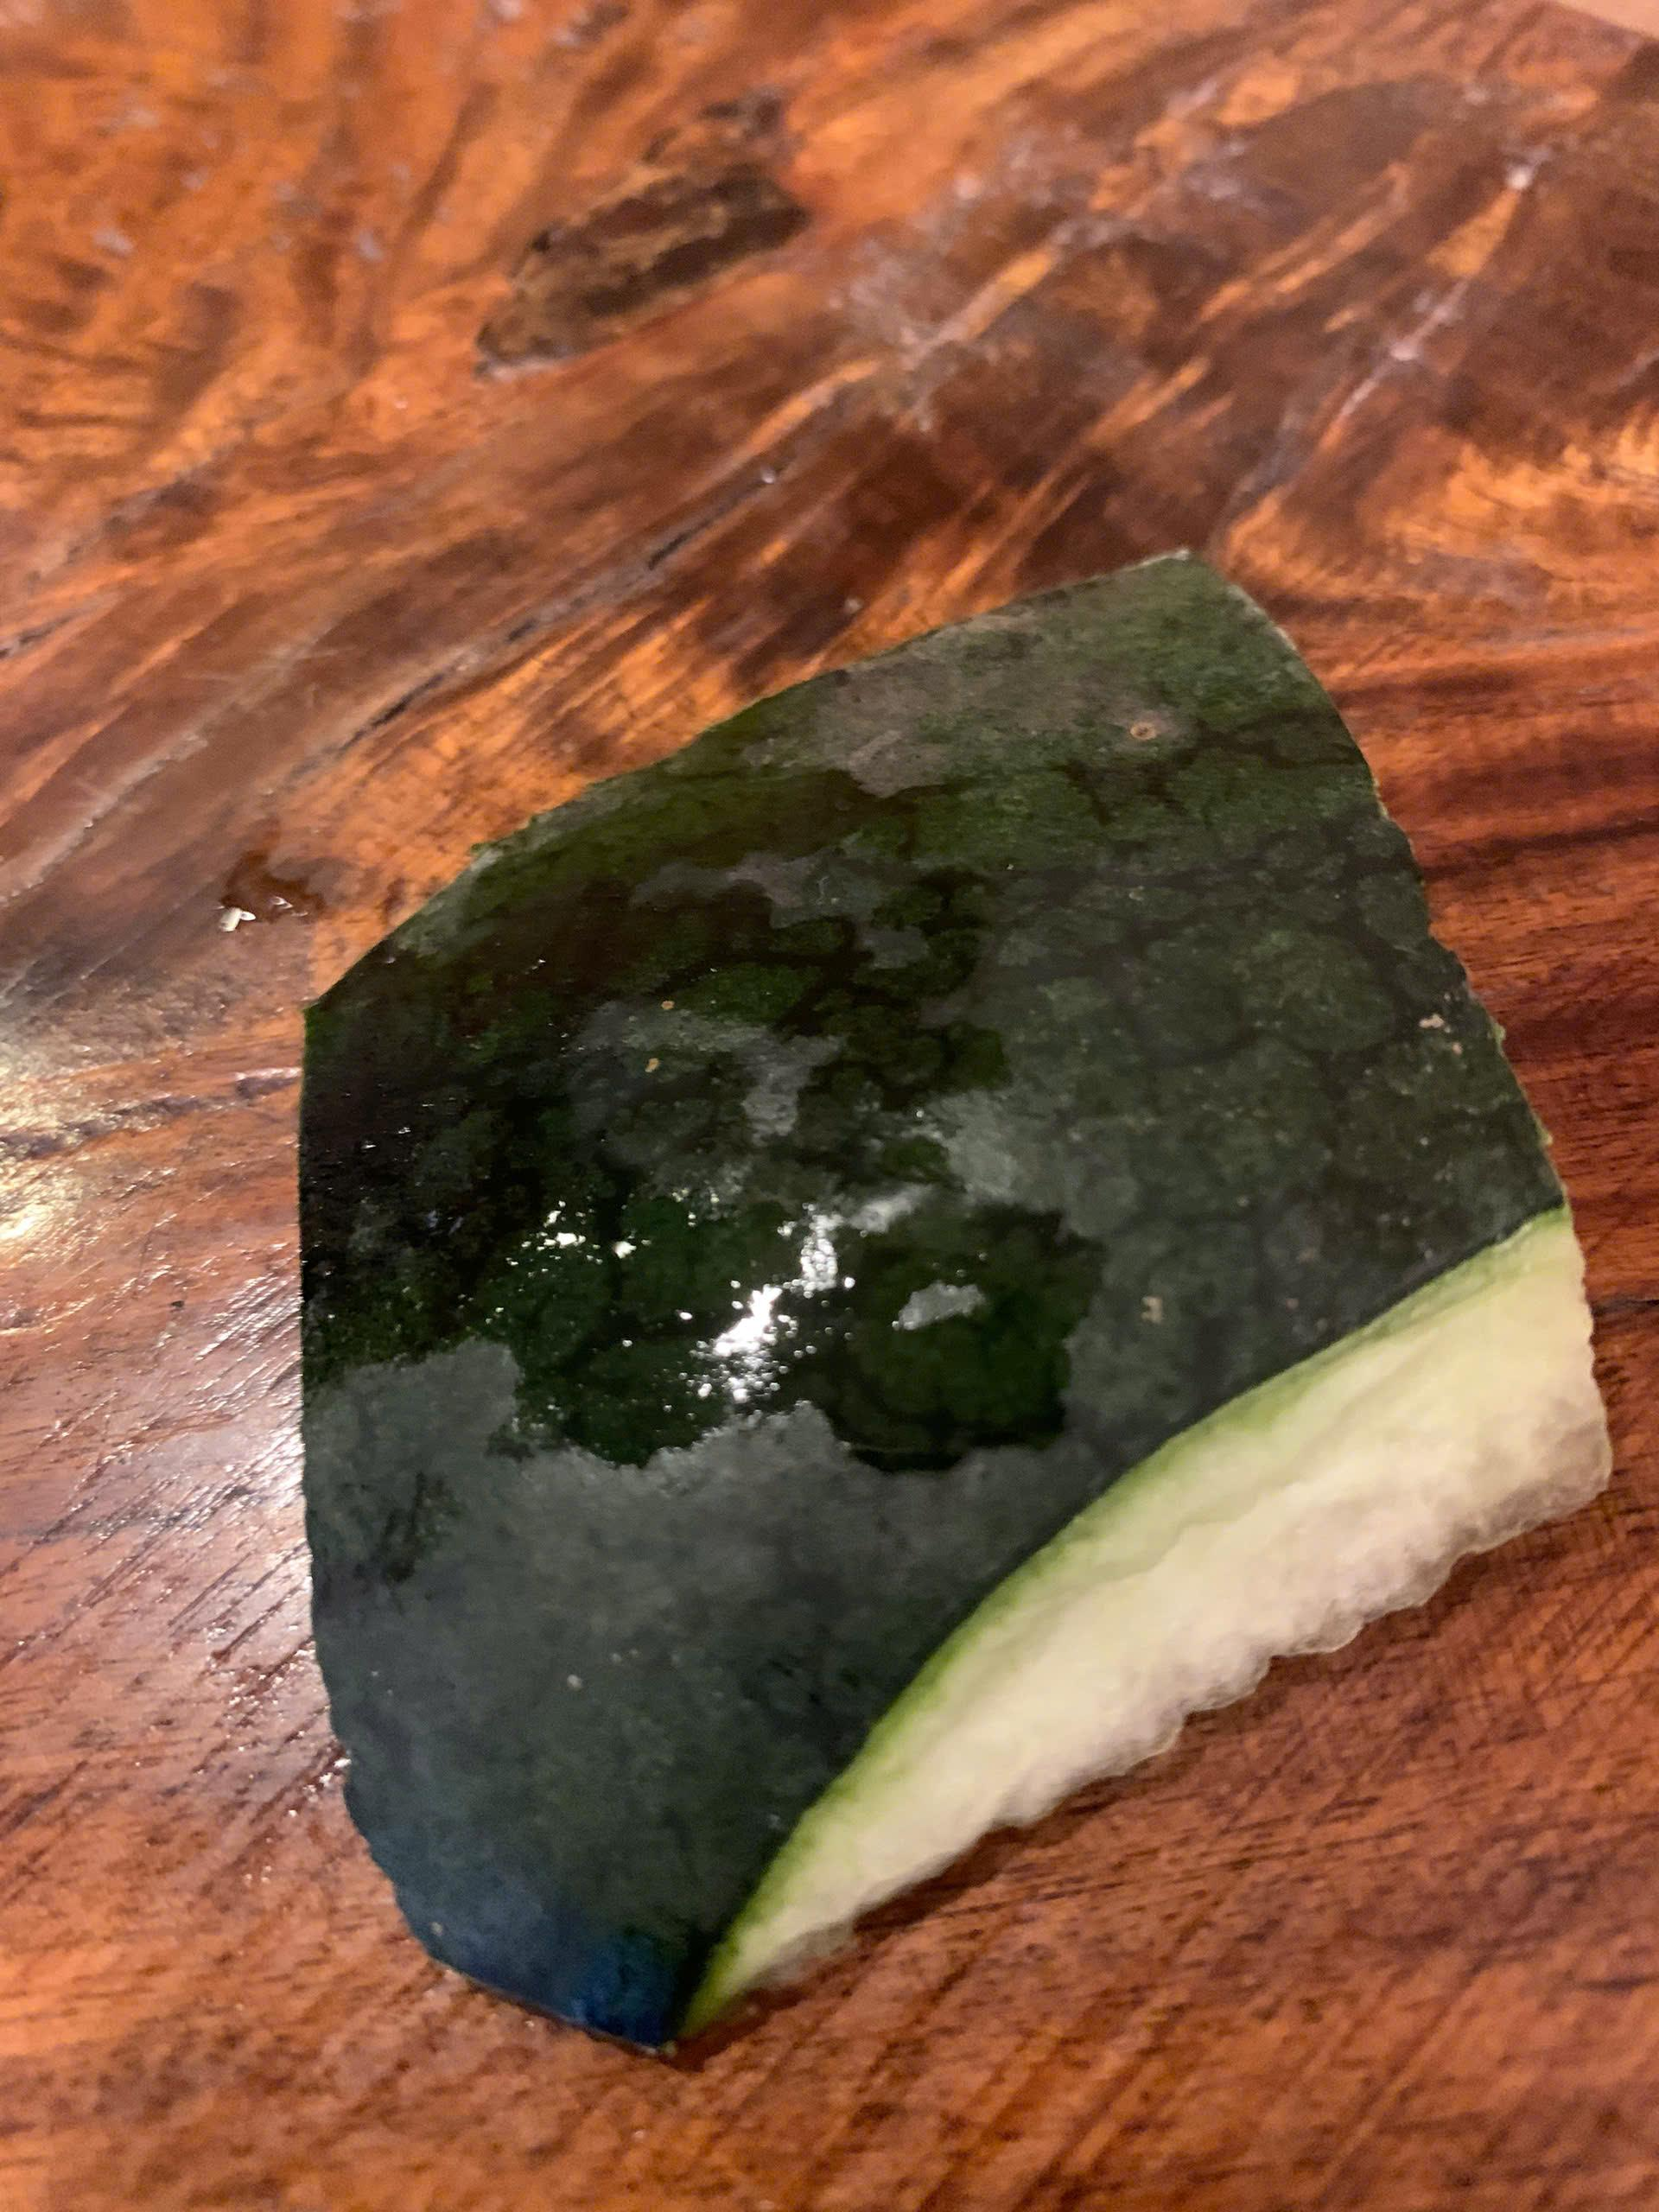Huu co: (307, 545, 1593, 2029)
